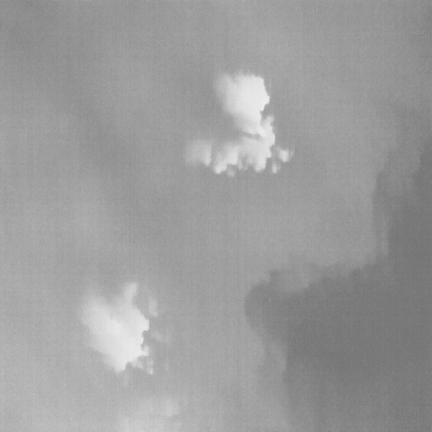flukeprints: (81, 284, 148, 373), (187, 117, 275, 173), (214, 73, 269, 136), (275, 147, 291, 162)
